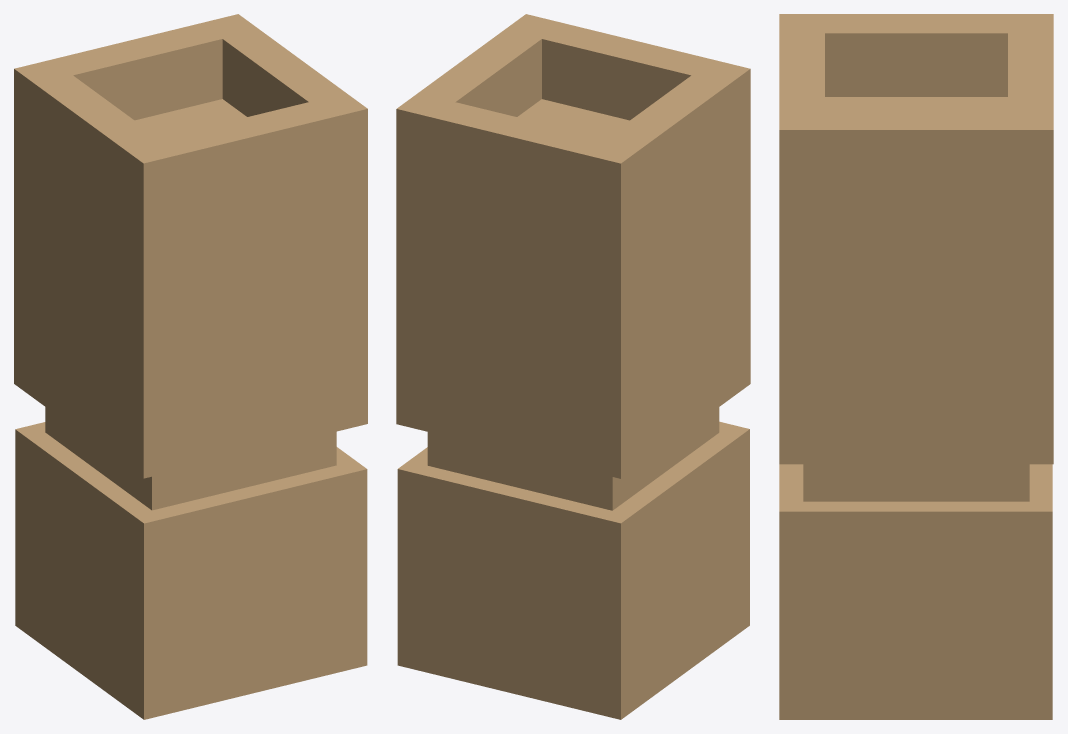
3 views of the same model, side by side, from view 1: azimuth 30°, elevation 25°; view 2: azimuth 150°, elevation 25°; view 3: azimuth 270°, elevation 25° (orthographic). The views are drawn at different scales.
Visible parts, largest first — view 1: 四角2凹_白; view 2: 四角2凹_白; view 3: 四角2凹_白.
Boxes of the visible parts, left/top/right/bottom form: 四角2凹_白: left=14, top=14, right=367, bottom=719; 四角2凹_白: left=396, top=14, right=750, bottom=719; 四角2凹_白: left=779, top=14, right=1053, bottom=719.
Bounding box in the file's own units: 0.022 × 0.0522 × 0.022.
